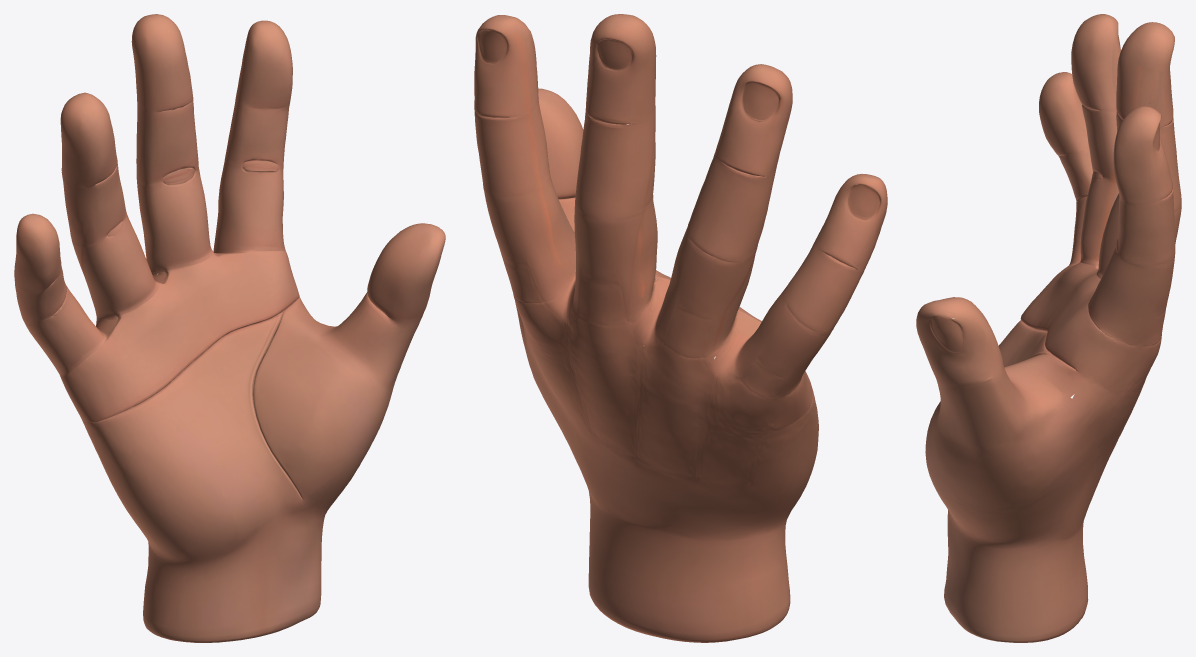
Rendered from toonstudio_open_palm.glb.
3 renders of one model, left to right at view 1: azimuth 30°, elevation 25°; view 2: azimuth 150°, elevation 25°; view 3: azimuth 270°, elevation 25°, orthographic. The views are drawn at different scales.
Parts seen in each view (by area): view 1: f397e92e_be93_430a_af2d_ed5a6eade912; view 2: f397e92e_be93_430a_af2d_ed5a6eade912; view 3: f397e92e_be93_430a_af2d_ed5a6eade912.
Part boxes in pixels (x1=…): f397e92e_be93_430a_af2d_ed5a6eade912: x1=14, y1=14, x2=445, y2=642; f397e92e_be93_430a_af2d_ed5a6eade912: x1=474, y1=14, x2=887, y2=642; f397e92e_be93_430a_af2d_ed5a6eade912: x1=916, y1=14, x2=1181, y2=642.
Size of the model in its own units: 0.139 by 0.2 by 0.083.
1 material, 1 textured.
